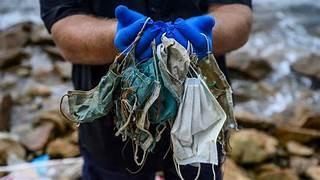Glove: (174, 15, 214, 58), (114, 5, 146, 51)
